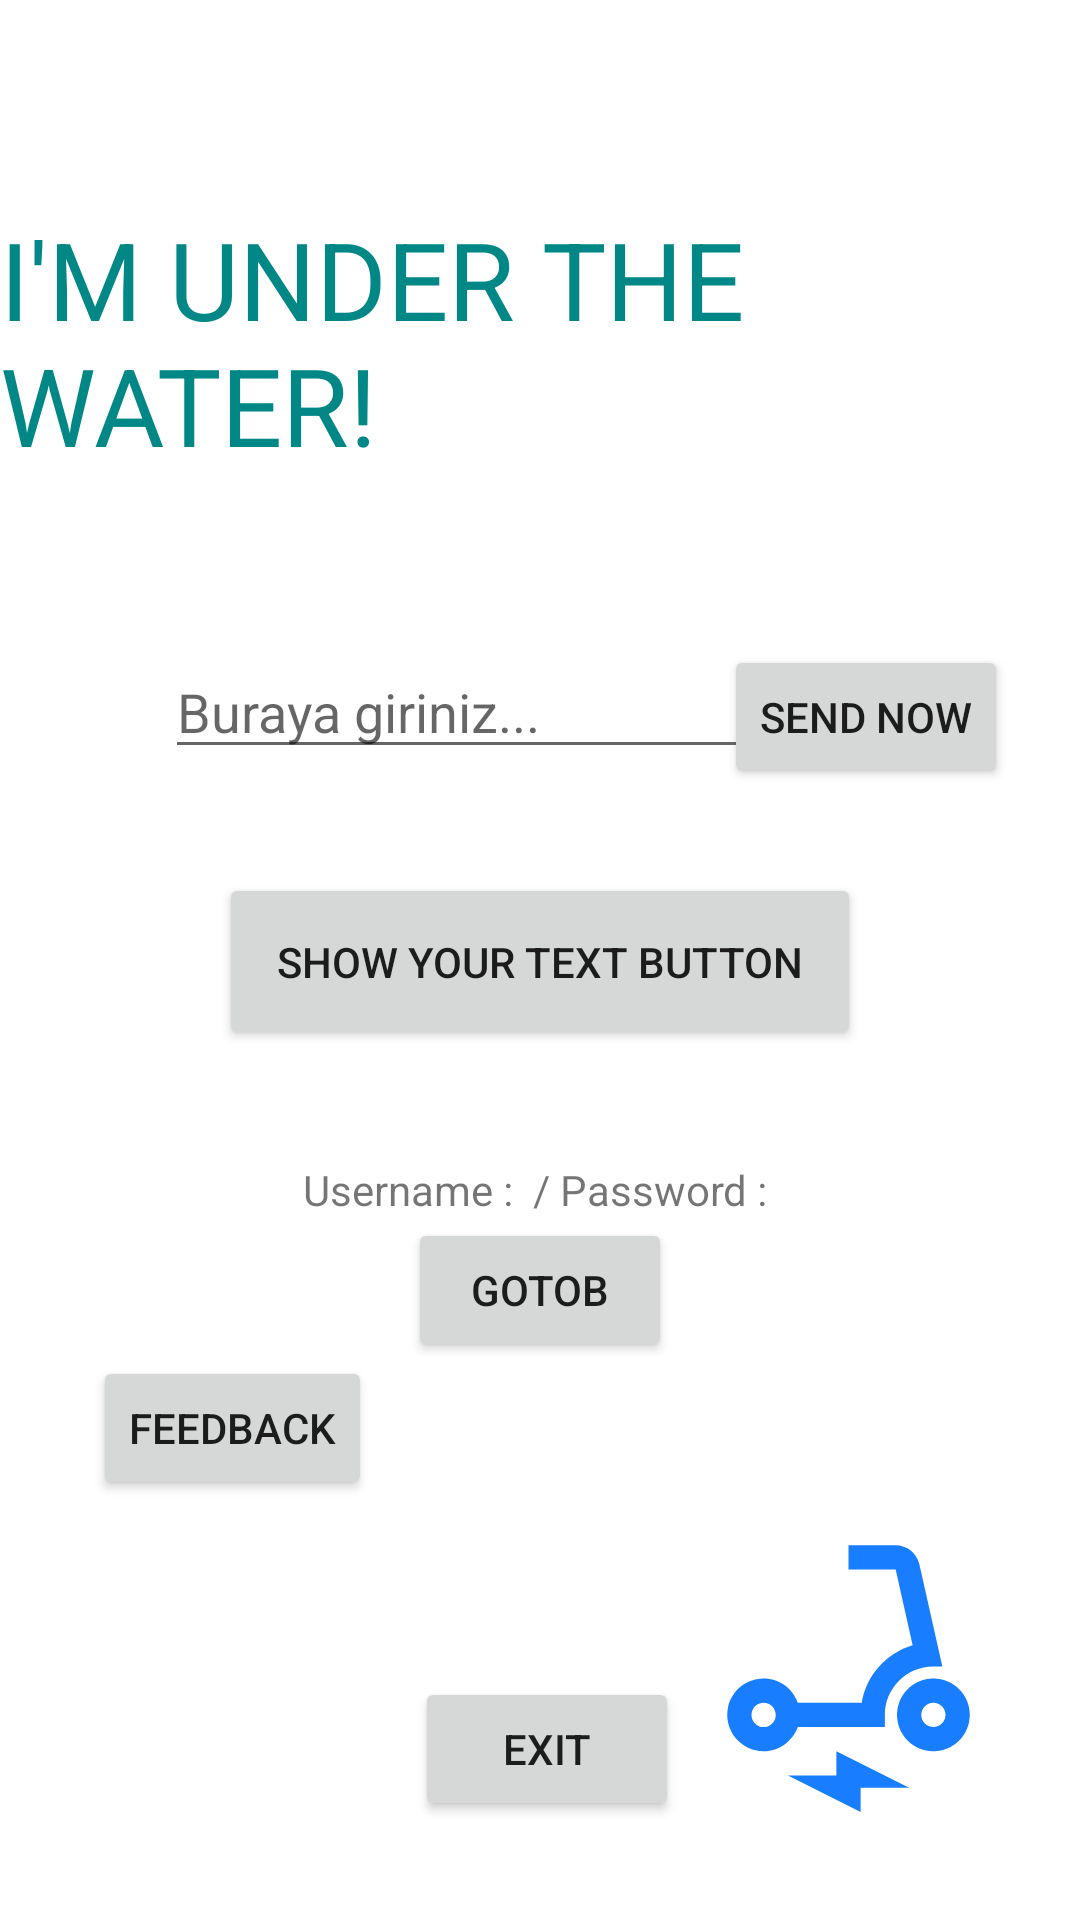

Point at icon controls on the screen. Image size 1080px×1920px, points as (x=x, y=y).
selectrical: (x=848, y=1678)
